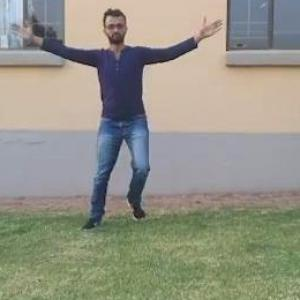takeoff: (38, 6, 231, 212)
